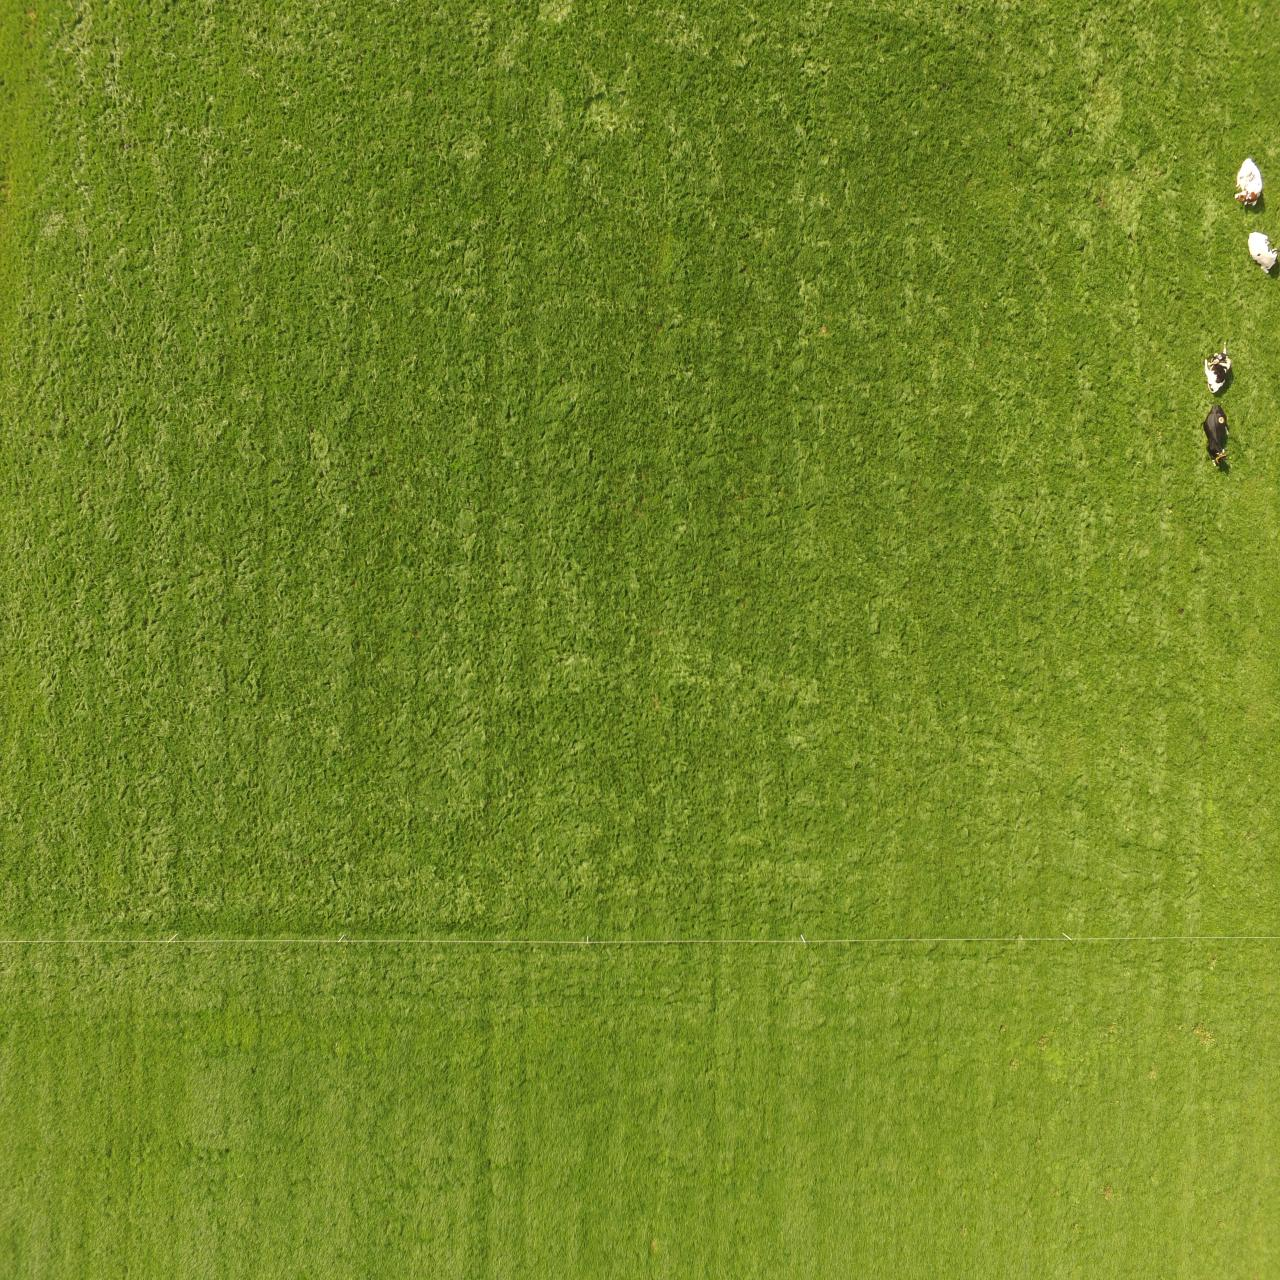cow: (1201, 403, 1230, 469), (1203, 339, 1233, 395), (1234, 155, 1262, 211), (1247, 229, 1279, 275)
